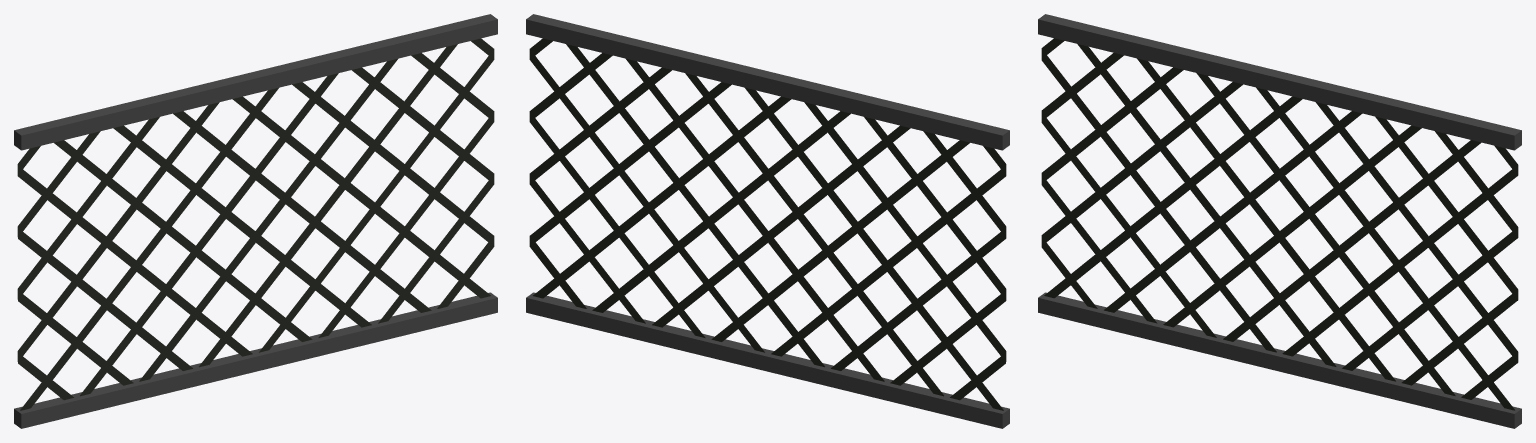
The model's file is fence_grid1.fbx.
The picture shows the model from 3 angles, left to right: view 1: azimuth 30°, elevation 25°; view 2: azimuth 150°, elevation 25°; view 3: azimuth 330°, elevation 25°; orthographic projection.
Parts seen in each view (by area): view 1: fence_grid1; view 2: fence_grid1; view 3: fence_grid1.
Part boxes in pixels (x1,y1,x2,y2): fence_grid1: [14, 14, 497, 428]; fence_grid1: [526, 14, 1009, 428]; fence_grid1: [1038, 14, 1521, 428].
Size of the model in its own units: 450 by 265 by 12.
